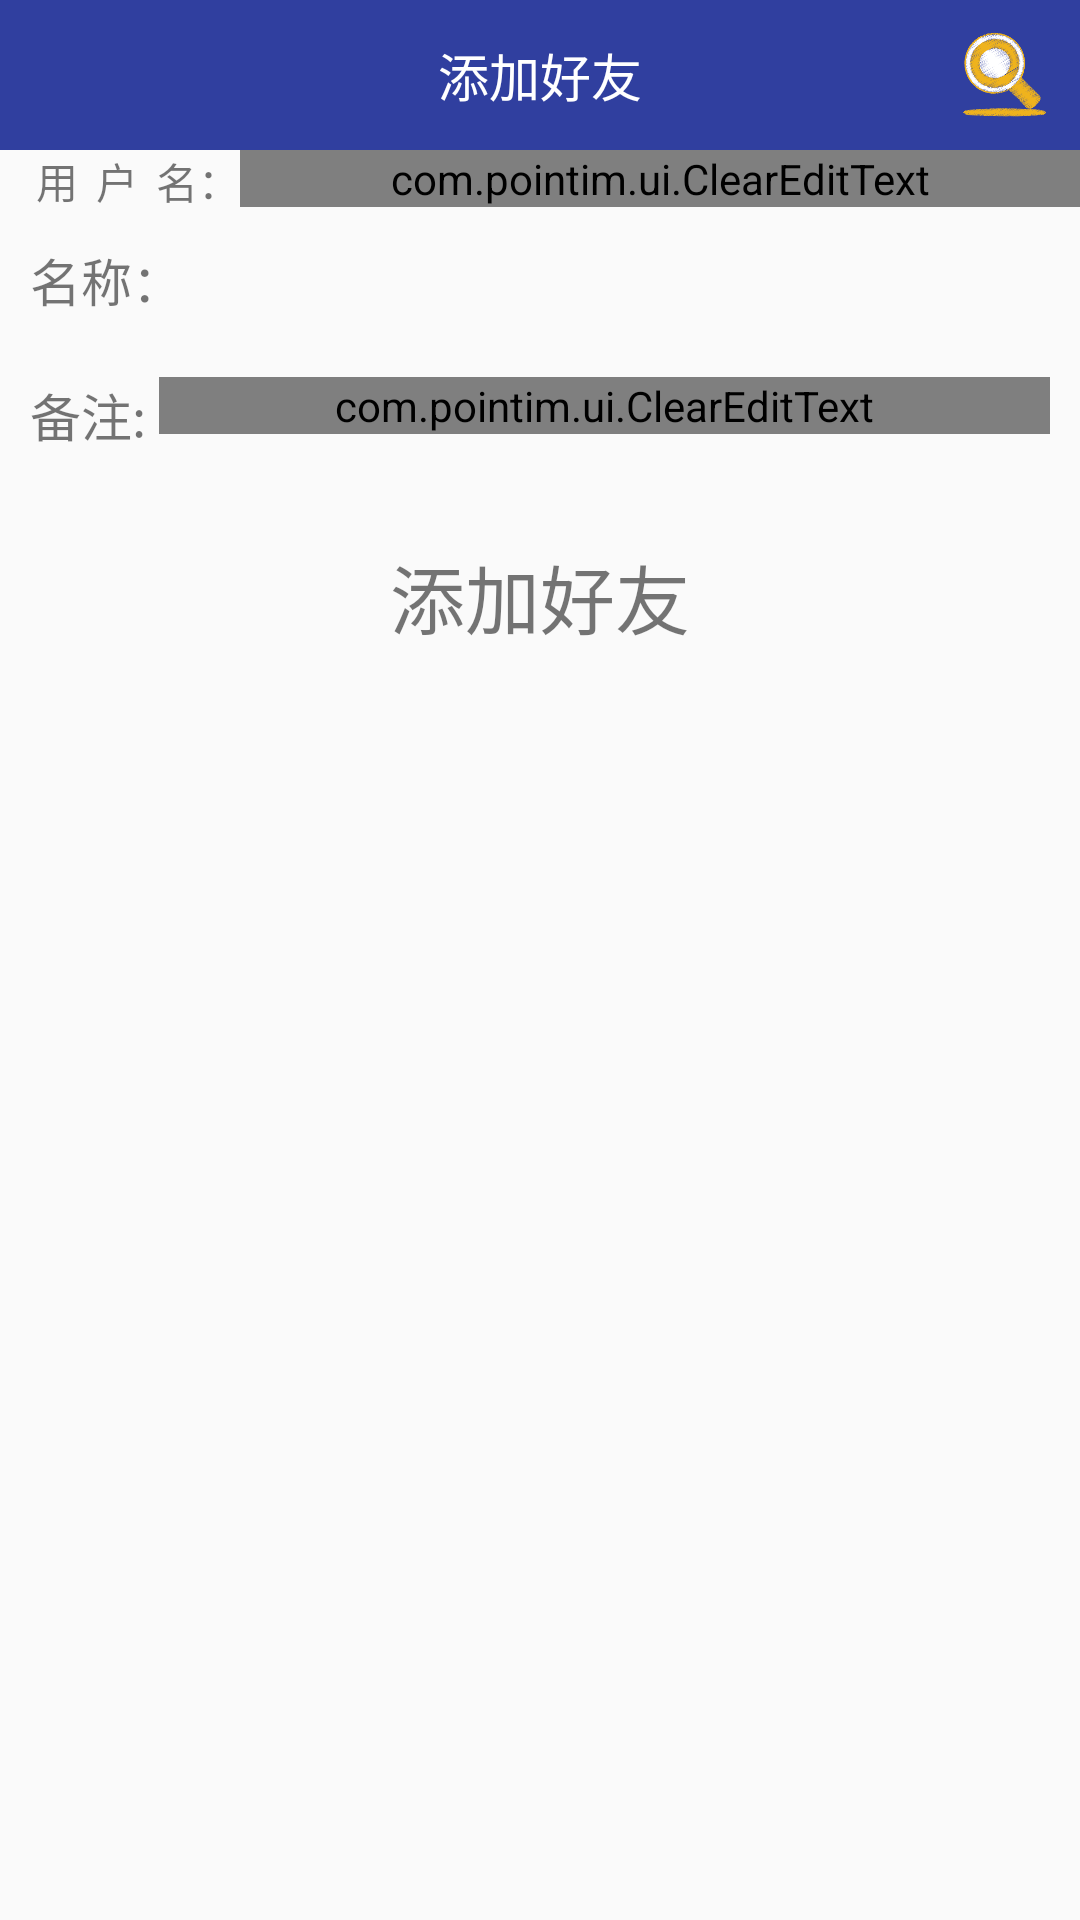

Where icons sit on this 1080px×1920px app screen, as (x1, y1, x2, y2):
query: (963, 33, 1046, 117)
